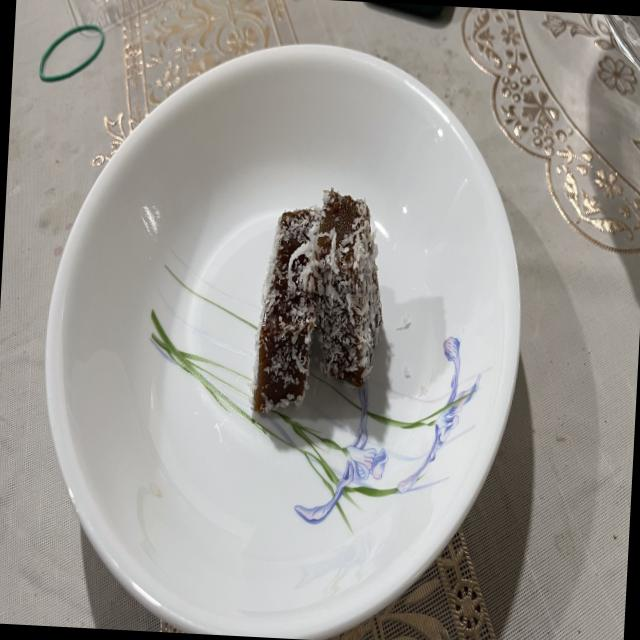kaswi: (251, 205, 321, 408), (314, 188, 385, 387)
